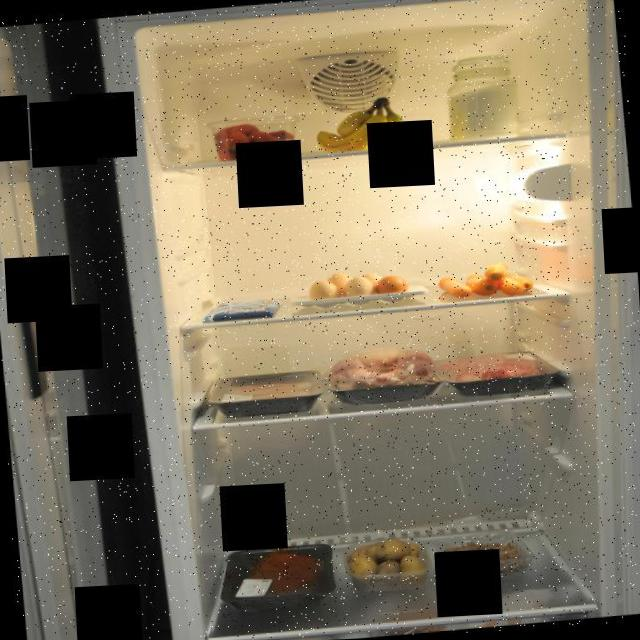Carne pollo: (320, 332, 452, 416), (205, 368, 324, 420)
Carne vacuno: (211, 538, 342, 619), (431, 344, 562, 396)
Gambas/Langostinos: (440, 531, 536, 586)
Huevos: (305, 263, 410, 310)
Patata: (344, 534, 434, 594)
Plátano: (307, 92, 412, 156)
Zanahoria: (432, 254, 540, 304)
chocolate: (198, 294, 285, 323)
strawberries: (204, 114, 300, 166)
sugar: (442, 50, 520, 144)
